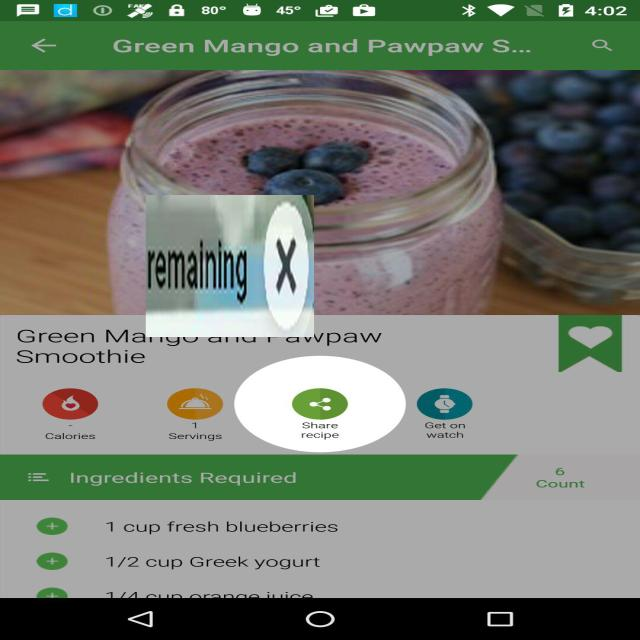misdirection: (146, 195, 314, 337)
